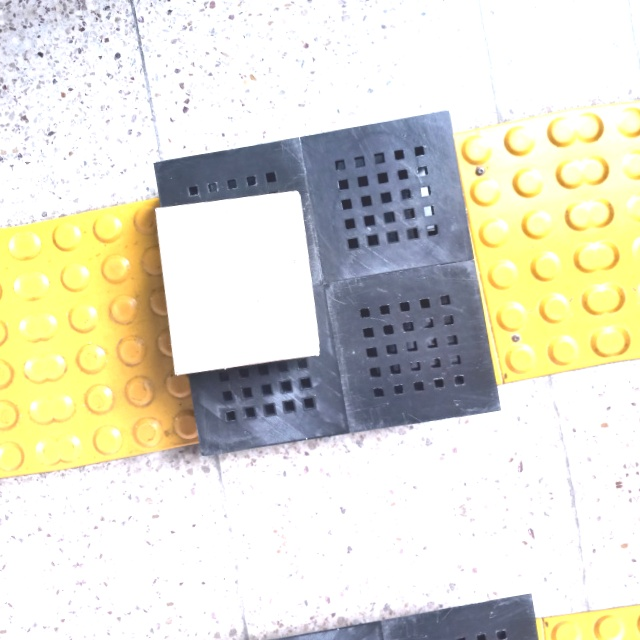box: (151, 190, 319, 376)
pallet: (148, 99, 507, 462)
